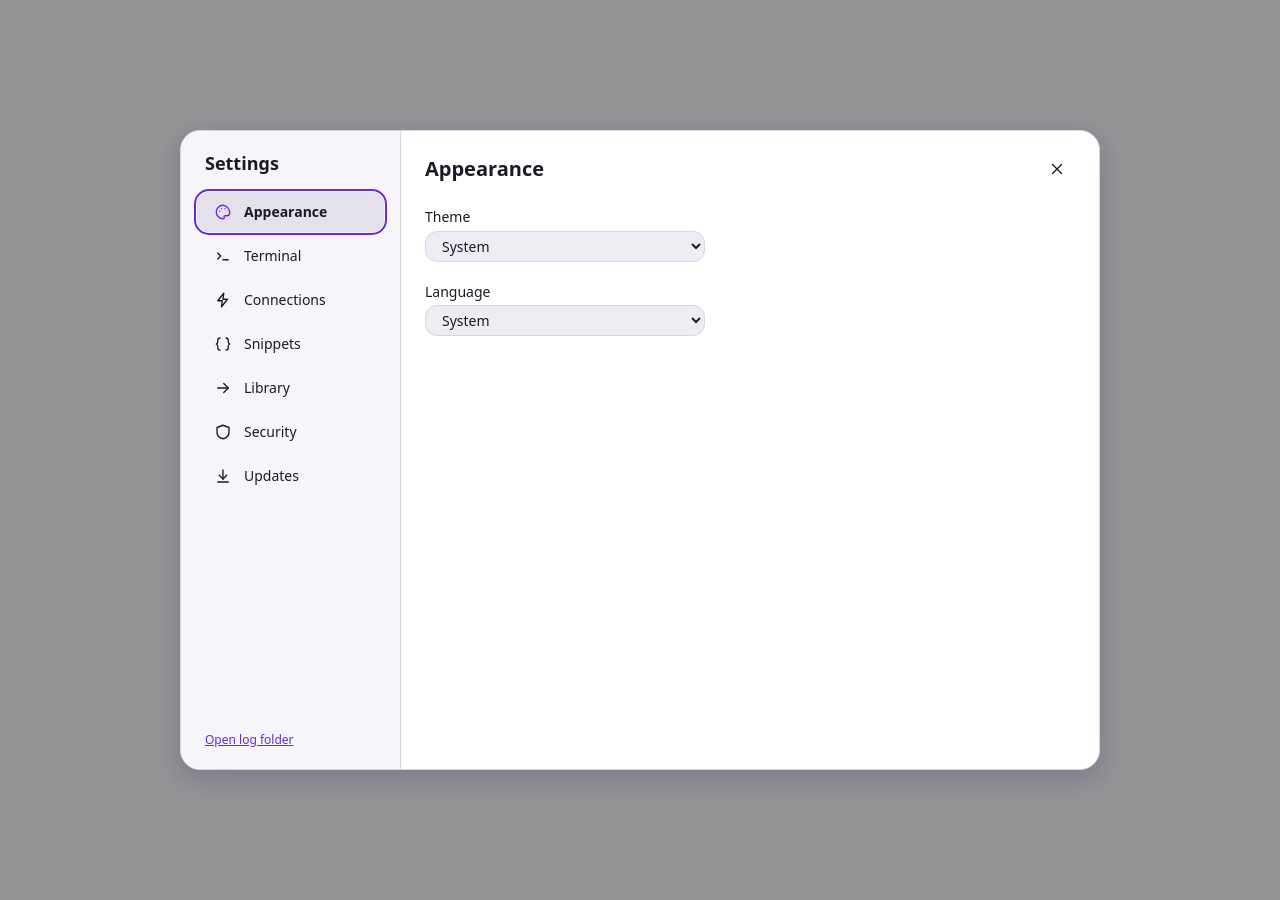
shows five categories and switches between them
Expected: the button "Appearance" is shown, [197,192,384,232]
Expected: the button "Connections" is shown, [197,280,384,320]
Click the button "Terminal" at (290, 256), box [197,236,384,276]
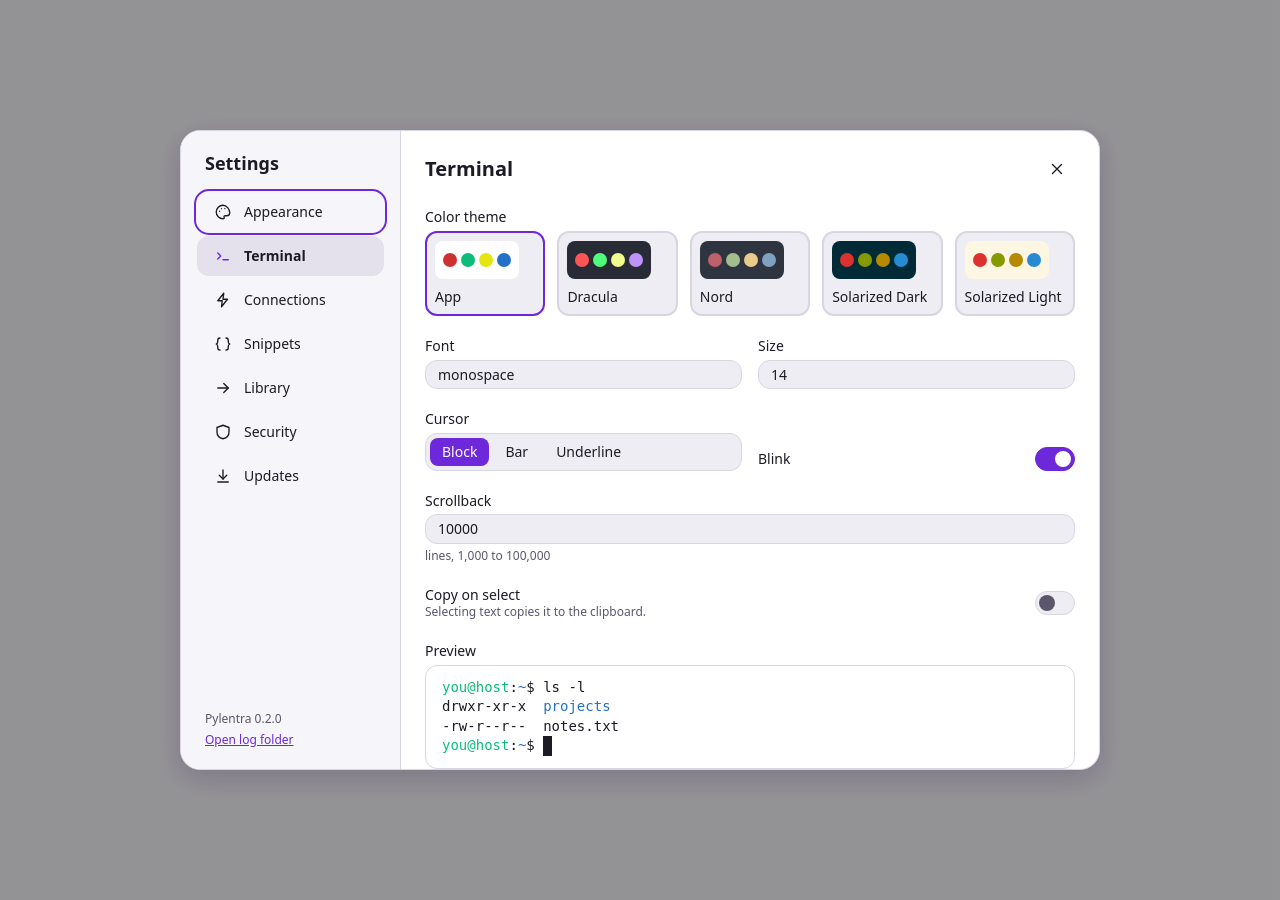
Now the number field labelled "Scrollback" is shown, box [425,514,1075,544]
Now the text "Pylentra 0.2.0" is shown, box [205,710,282,727]
